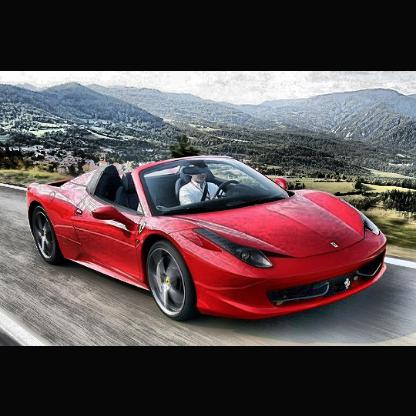Ferrari 458 Italia Convertible 2012: (29, 157, 390, 322)
